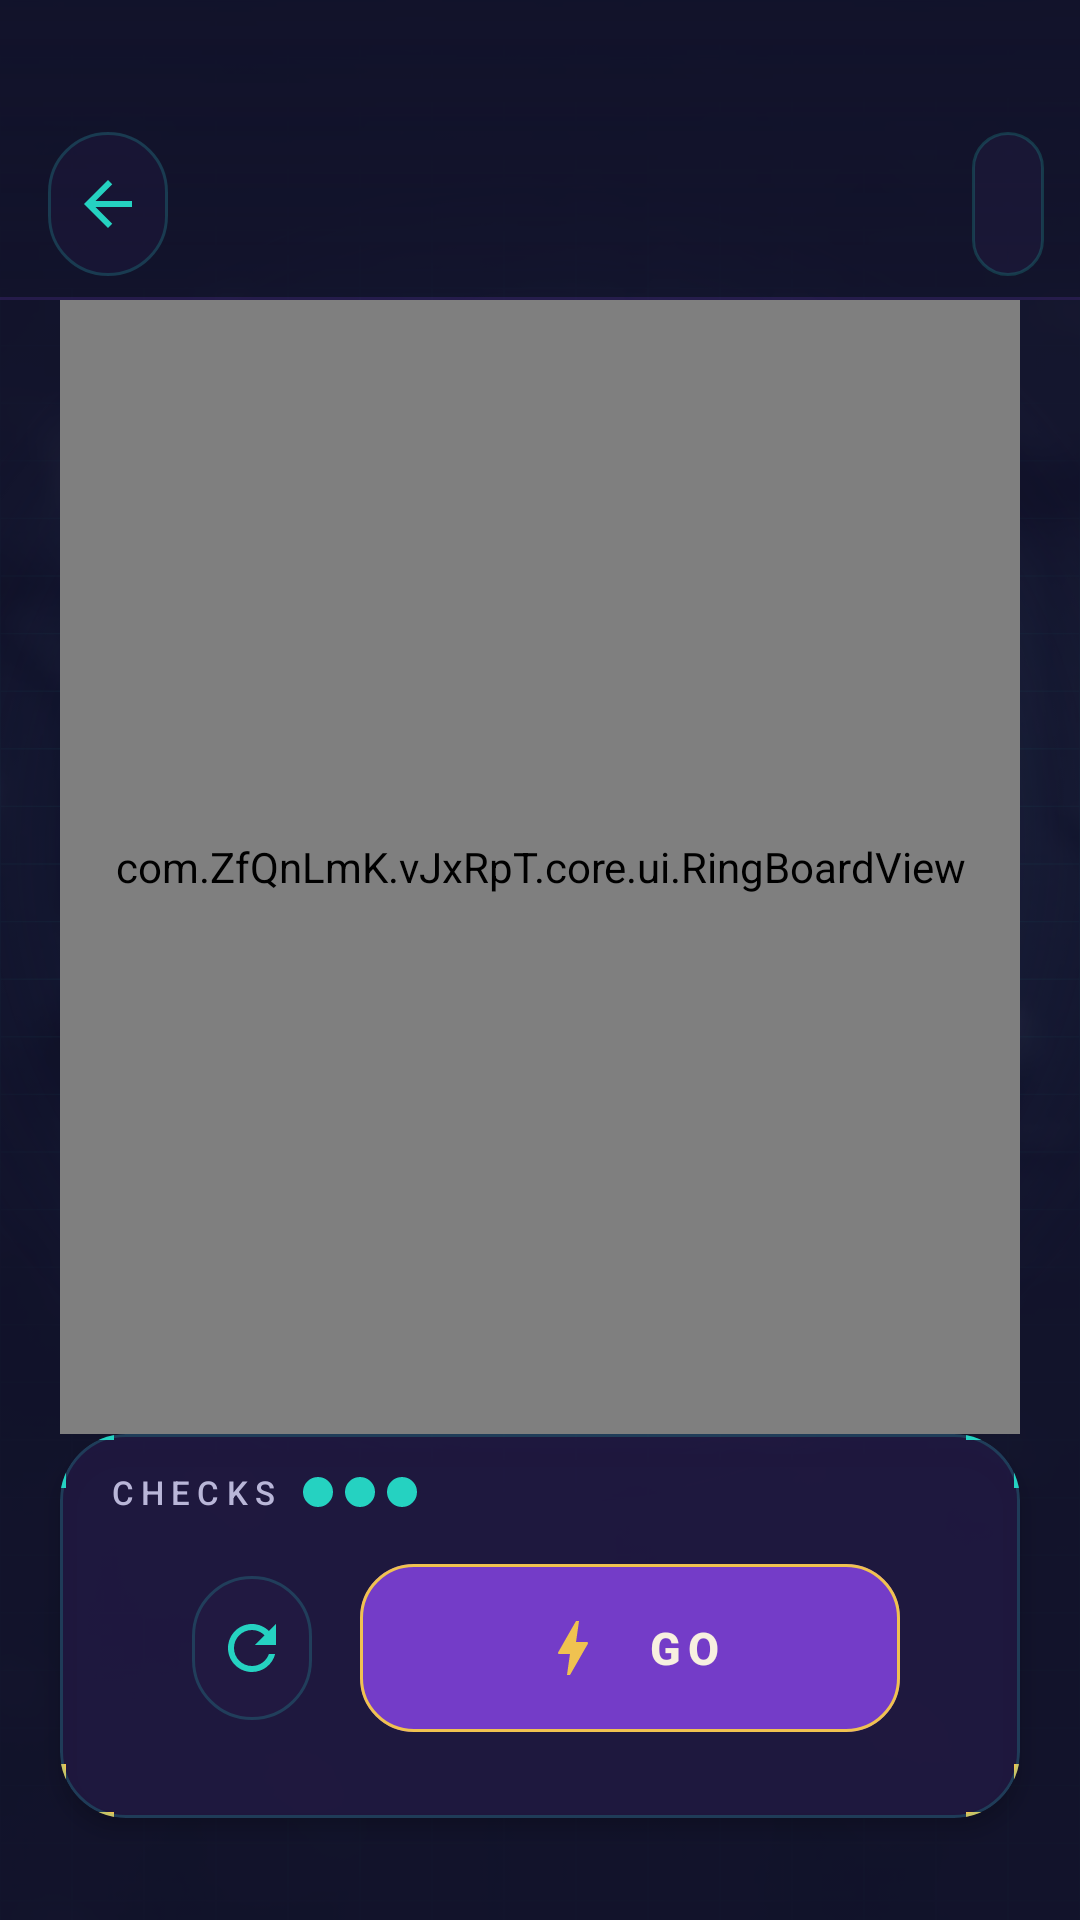

Point at icon controls on the screen. Image size 1080×1920, points as (x=x, y=y).
BACK TO PREVIOUS SCREEN: (x=108, y=204)
RESTART SCHEME: (x=252, y=1648)
